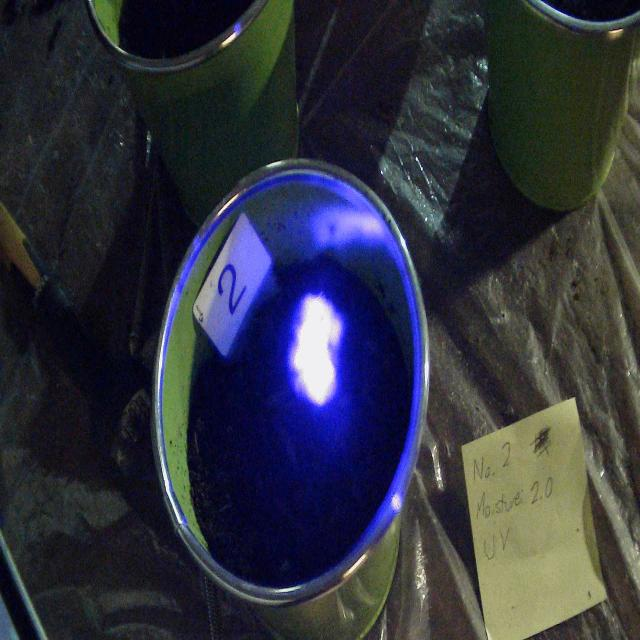soil-moisture-2.0: (291, 295, 345, 405)
